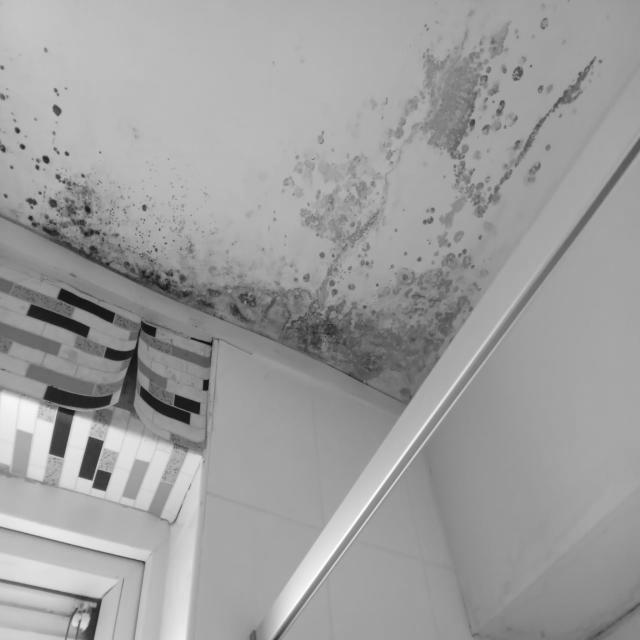stain marks: (0, 0, 640, 409), (472, 461, 606, 640)
